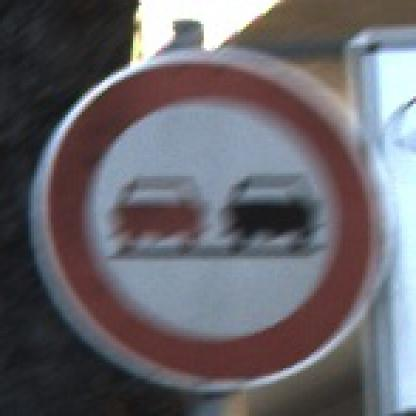No Overtaking: (38, 38, 380, 380)
